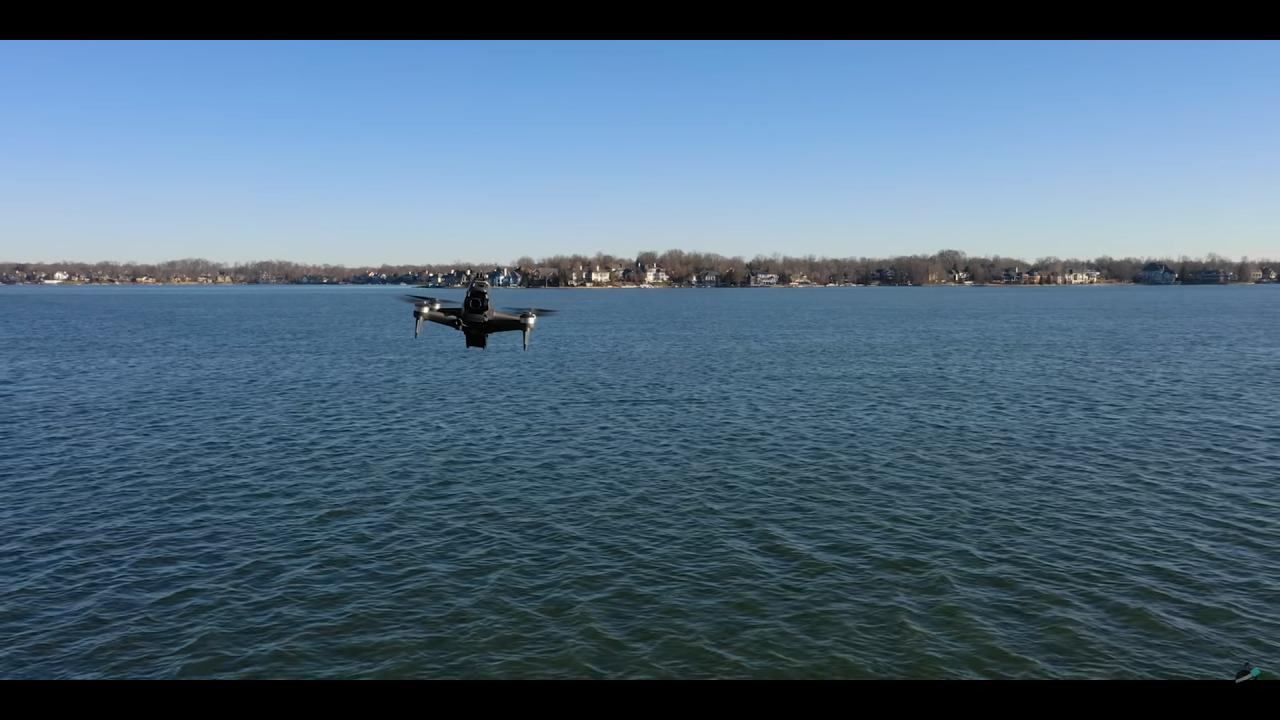Drone: (384, 266, 565, 364)
